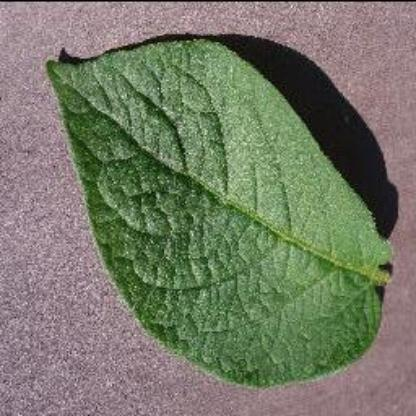Healthy-plant: (37, 42, 397, 392)
